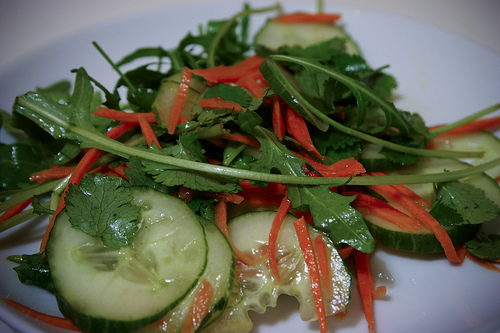cucumber: (44, 184, 208, 330), (206, 208, 355, 332), (153, 212, 234, 328)
